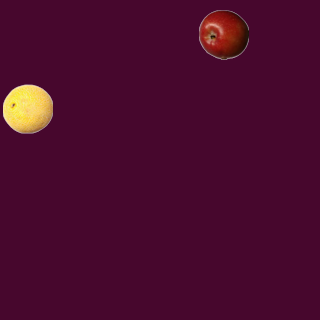Apple Braeburn: (198, 9, 248, 59)
Cantaloupe 1: (2, 83, 52, 133)
